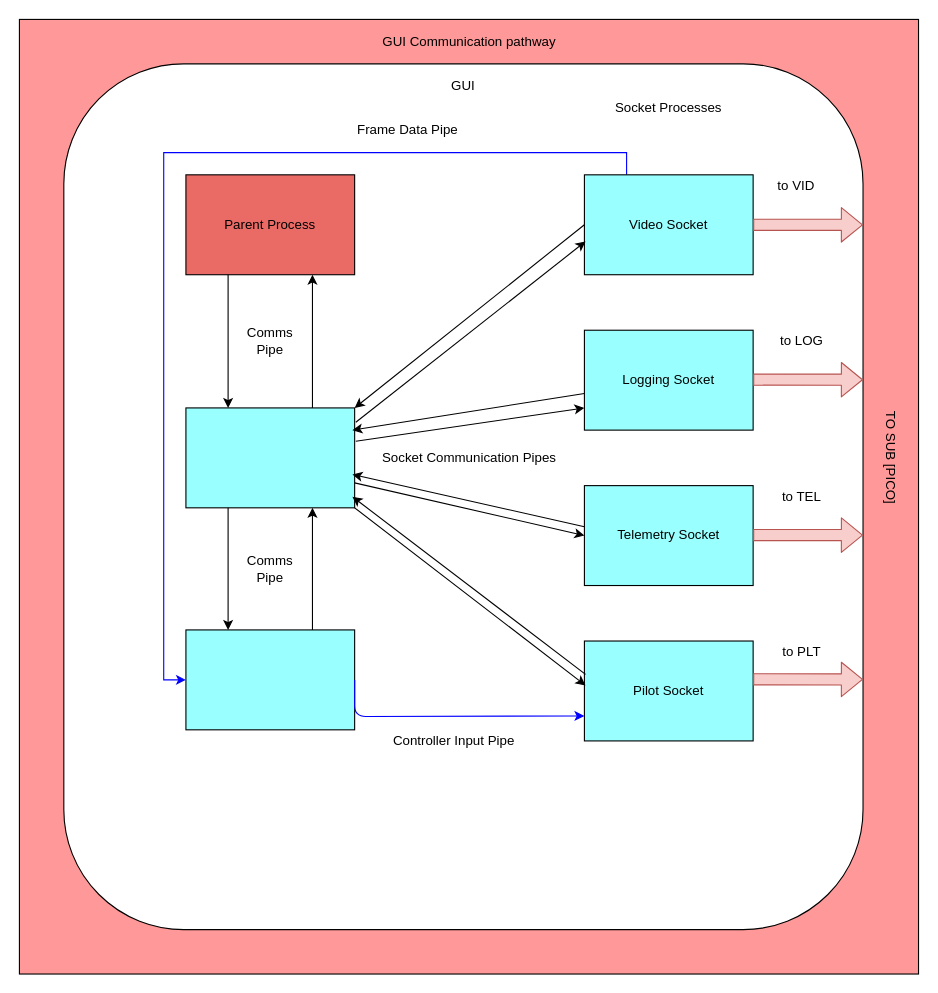
Image size: 938x993. Some labels were removed from this diagram. The shapes that lost their labels are listed below. From the top down, each one's centre as x and y in pixels, then its label:
the point at 270,457: Packet Router
the point at 270,679: tkinter GUI Window
